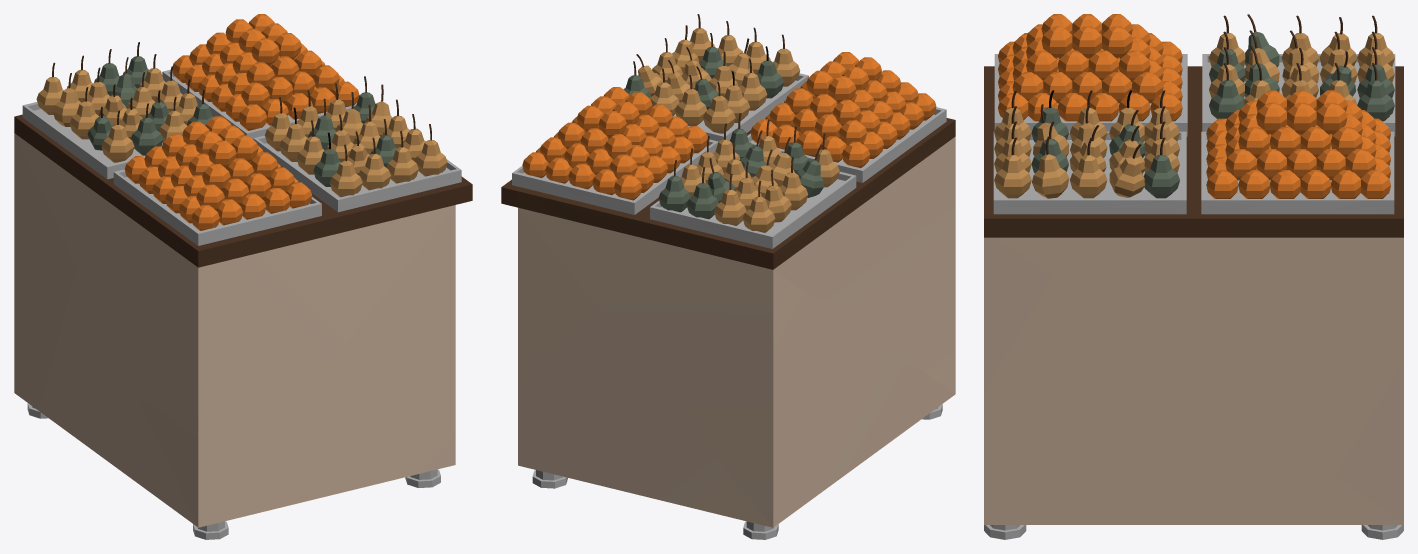
Rendered from SM_fruitShelveSmall_02.glb.
3 views of the same model, side by side, from view 1: azimuth 30°, elevation 25°; view 2: azimuth 150°, elevation 25°; view 3: azimuth 270°, elevation 25° (orthographic). The views are drawn at different scales.
Visible parts, largest first — view 1: SM_fruitShelveSmall_02; view 2: SM_fruitShelveSmall_02; view 3: SM_fruitShelveSmall_02.
Boxes of the visible parts, <box> form: SM_fruitShelveSmall_02: <box>14,14,472,539</box>; SM_fruitShelveSmall_02: <box>501,14,955,539</box>; SM_fruitShelveSmall_02: <box>984,14,1403,539</box>.
Bounding box in the file's own units: 0.8576 × 1.09 × 0.9969.
1 material, 1 textured.
